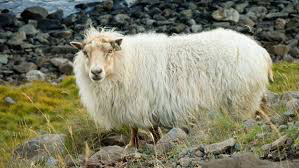koyun: (69, 24, 274, 148)
